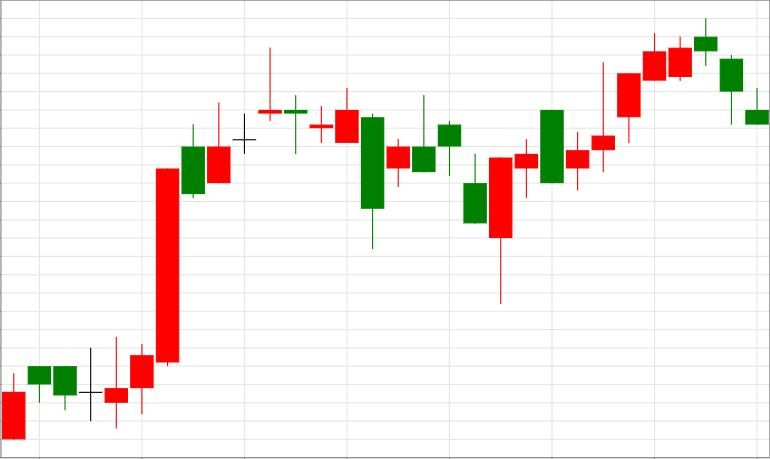shooting_star_fall: (105, 103, 231, 429)
